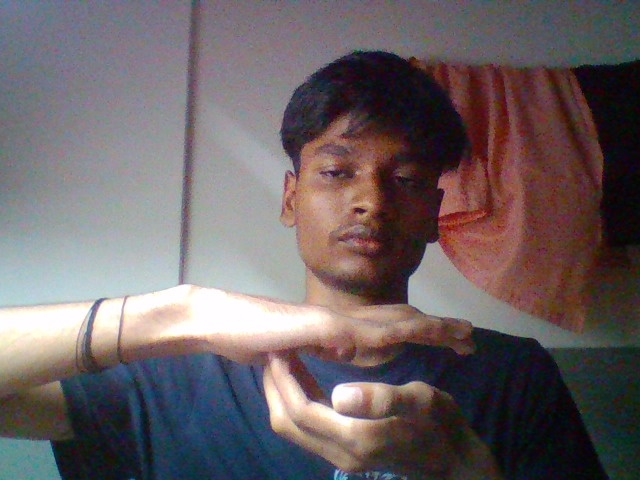J: (166, 258, 531, 480)
